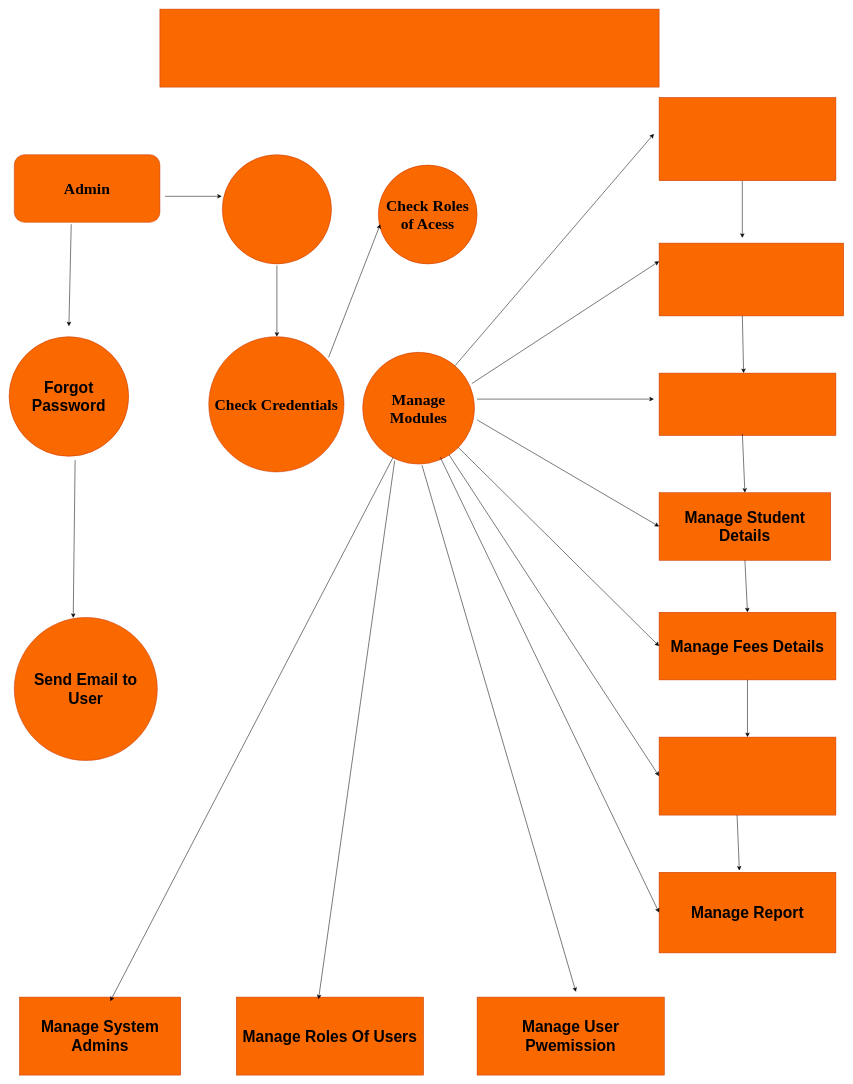
Some shapes in this 853 by 1084 pixel diagram are drawn without their labels. The box of each missing label's shape, as (x1, y1, x2, y2) in pixels:
Login to system: (222, 154, 332, 264)
Manage Attendence Details: (659, 243, 844, 316)
Manage Class Details: (659, 373, 836, 436)
Manage Teacher Profile: (659, 737, 836, 815)
Manage Timetable Details: (659, 97, 836, 181)
Student Information System: (159, 9, 659, 87)
